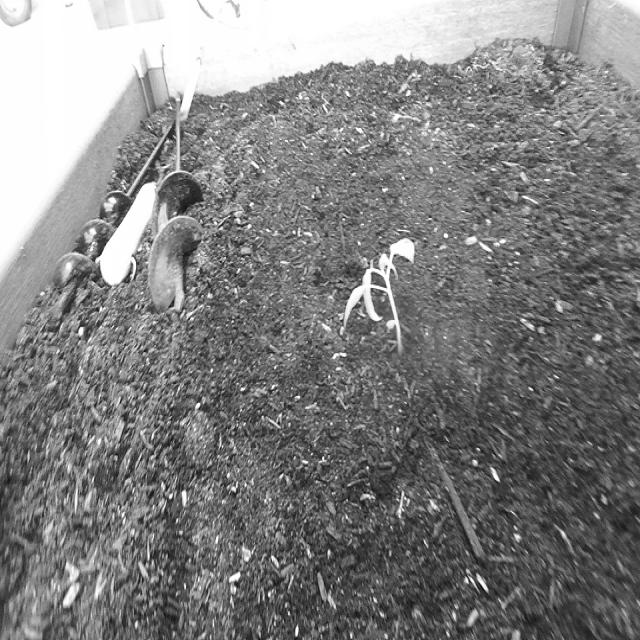Healthy: (338, 226, 427, 367)
